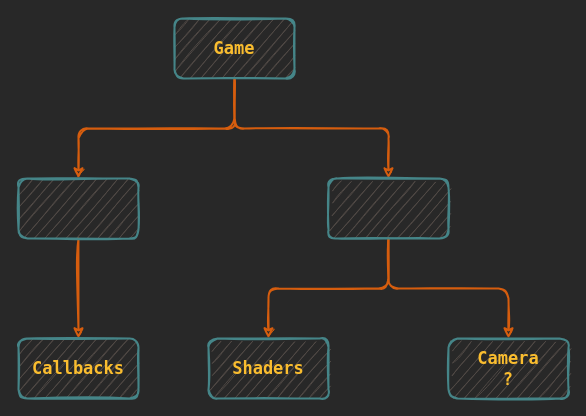
This 586x416 diagram has some shape labels left out. Here are the shapes that lost their labels. From the top down, the box of each, then its label:
(17, 177, 139, 239): Window
(327, 177, 449, 239): Renderer
